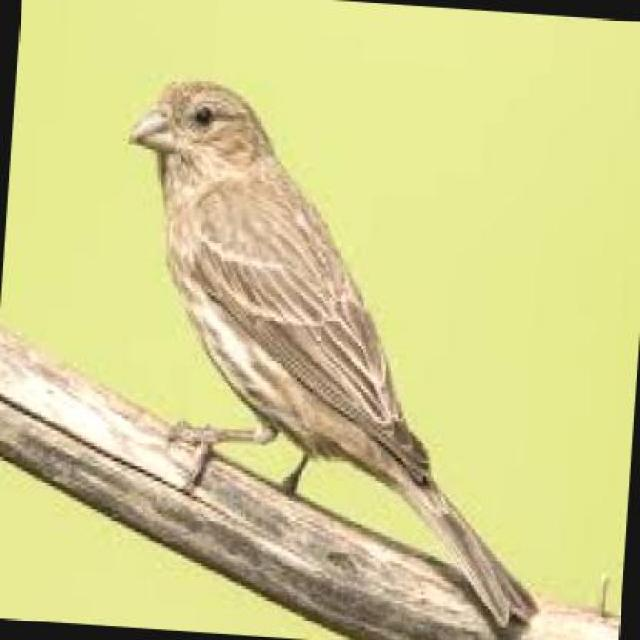Bird: (121, 70, 541, 633)
